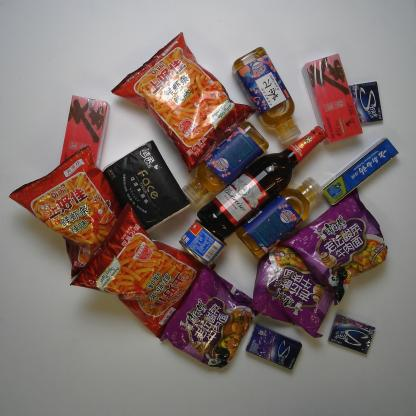Alcohol: (196, 126, 327, 242)
Canned Food: (178, 219, 226, 268)
Drink: (180, 122, 268, 204), (237, 177, 324, 257), (235, 47, 304, 144)
Gum: (245, 322, 303, 371), (328, 314, 376, 355), (348, 80, 384, 126)
Instant Drink: (56, 95, 110, 212), (306, 53, 364, 145)
Instant Noodles: (292, 186, 389, 300), (157, 268, 255, 368), (247, 238, 344, 338)
Personal Hygiene: (322, 137, 398, 205)
Puffed Food: (110, 32, 257, 168), (69, 203, 199, 338), (9, 146, 129, 278)
Tissue: (102, 139, 191, 234)
